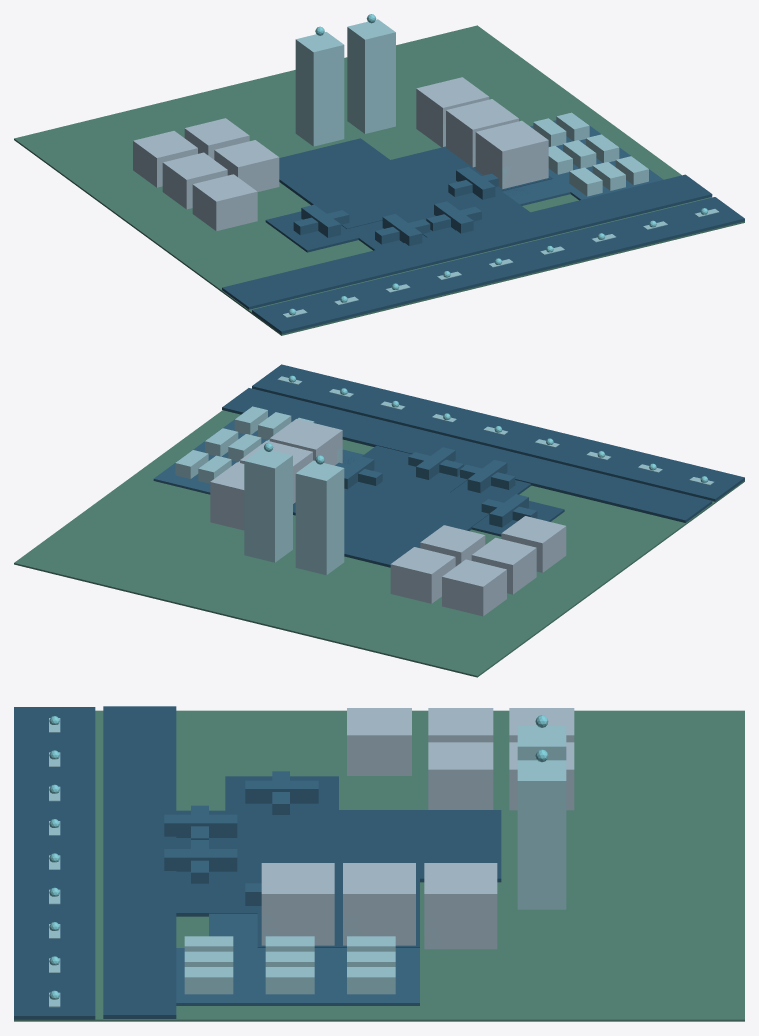
Rendered from stage_24.glb.
3 renders of one model, top to bottom at view 1: azimuth 30°, elevation 25°; view 2: azimuth 150°, elevation 25°; view 3: azimuth 270°, elevation 25°, orthographic. The views are drawn at different scales.
Visible parts, largest first — view 1: geometry_0; view 2: geometry_0; view 3: geometry_0.
Boxes of the visible parts, bbox=[...] form: geometry_0: bbox=[14, 14, 744, 335]; geometry_0: bbox=[14, 364, 744, 677]; geometry_0: bbox=[14, 706, 744, 1021].
Size of the model in its own units: 9 by 2.06 by 9.
